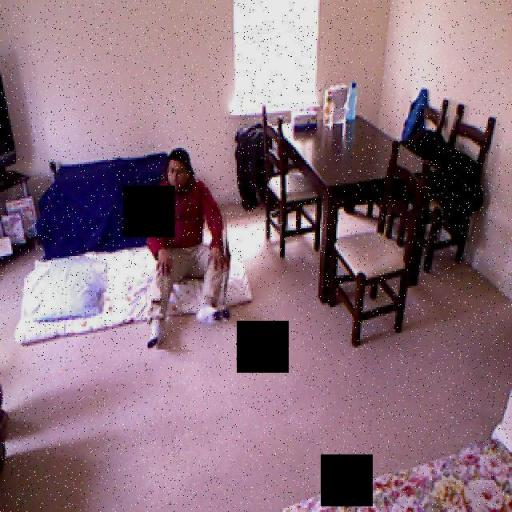Fall: (148, 146, 231, 351)
